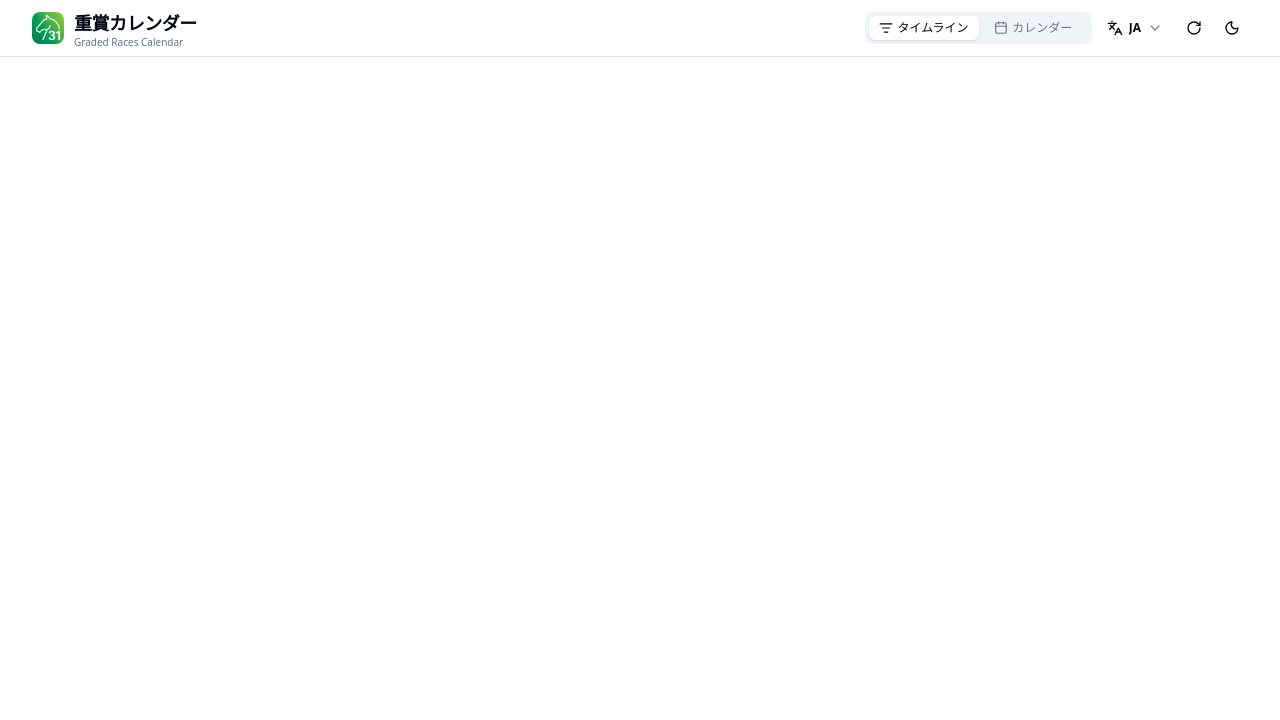
Header › テーマ切替ボタンが表示され、クリックするとライト/ダークがトグルされること
クリックしてダークモードへ
Click the button named "ダークモードに切り替え". click: (1232, 28)
box: [1216,12,1248,44]
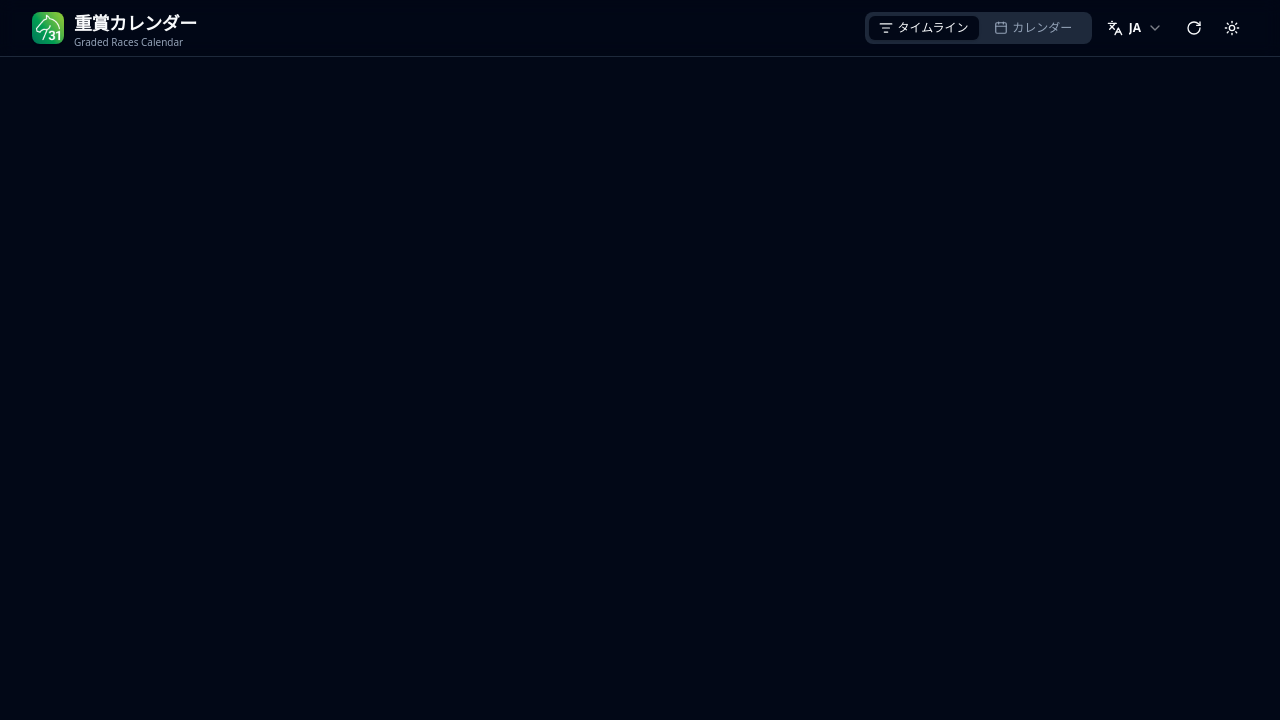
Now the button named "ライトモードに切り替え" is shown
再度クリックしてライトモードへ
Click the button named "ライトモードに切り替え". click: (1232, 28)
box: [1216,12,1248,44]
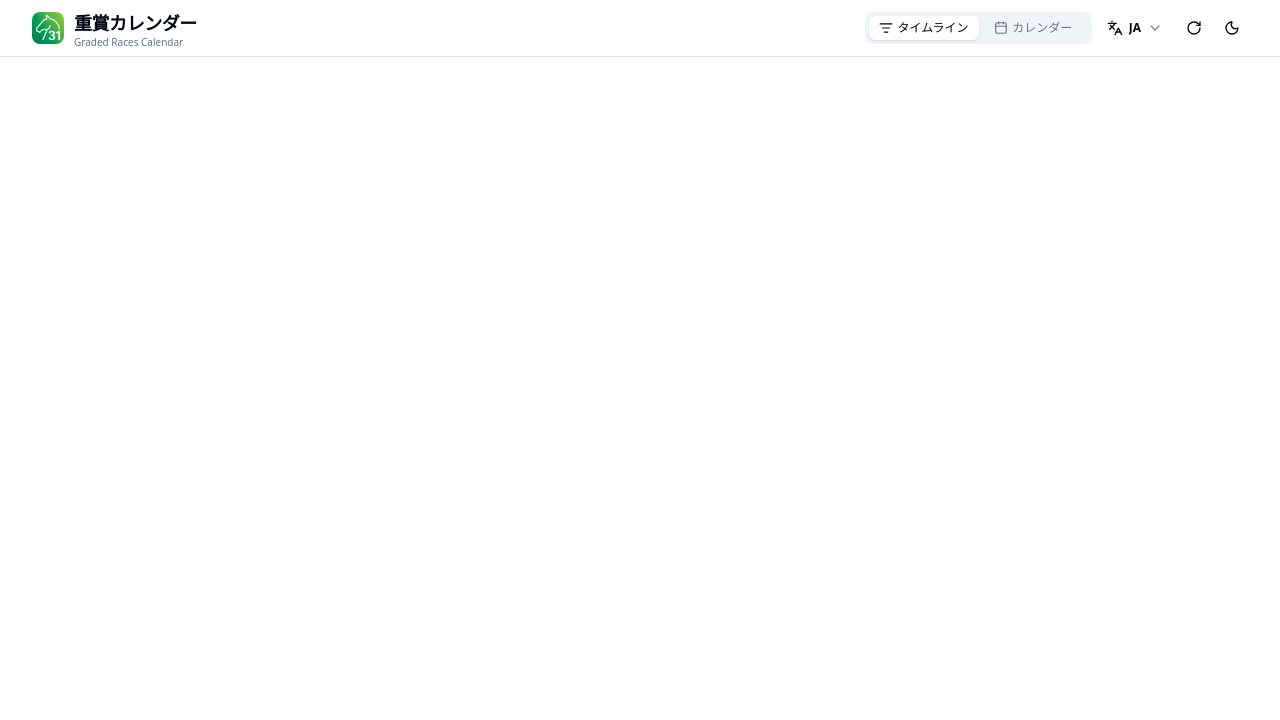
Now the button named "ダークモードに切り替え" is shown, box [1216,12,1248,44]
